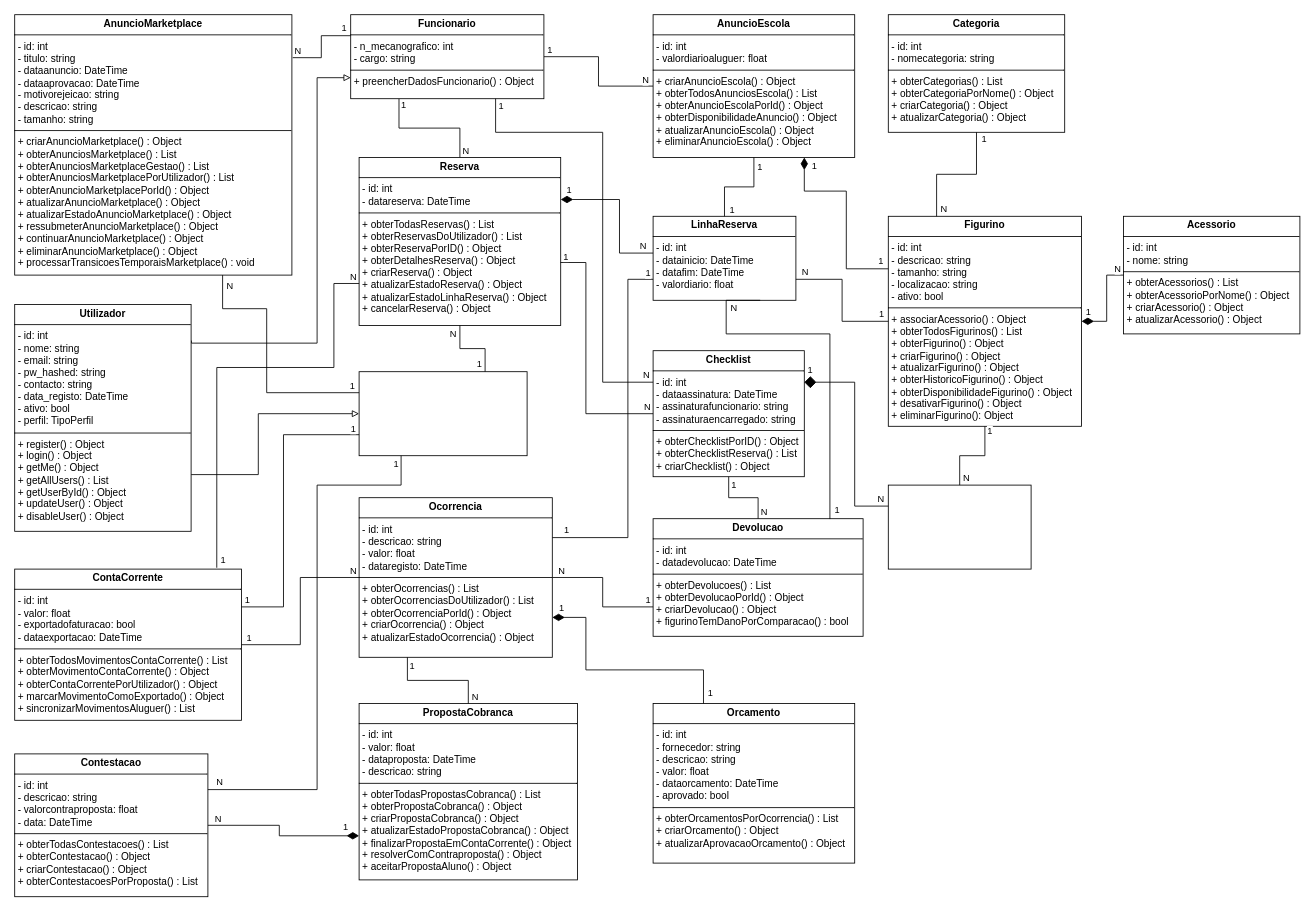
Image size: 1315x911. Some labels were removed from this diagram. The shapes that lost their labels are listed below. From the top down, each one's centre as x and y in pixels, then its label:
pixel 442 413: Aluno - numeroaluno: int + preencherDadosAluno() : Object
pixel 959 526: ChecklistItem - id: int - observacoes: string (Apenas Entidade de Dados)
